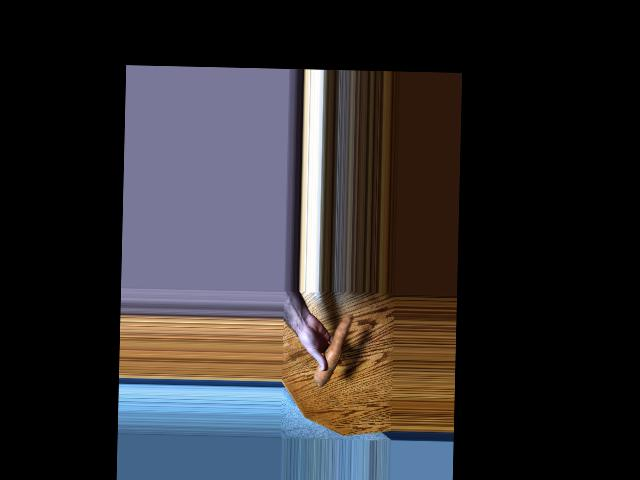sweet_potato: (322, 313, 347, 389)
